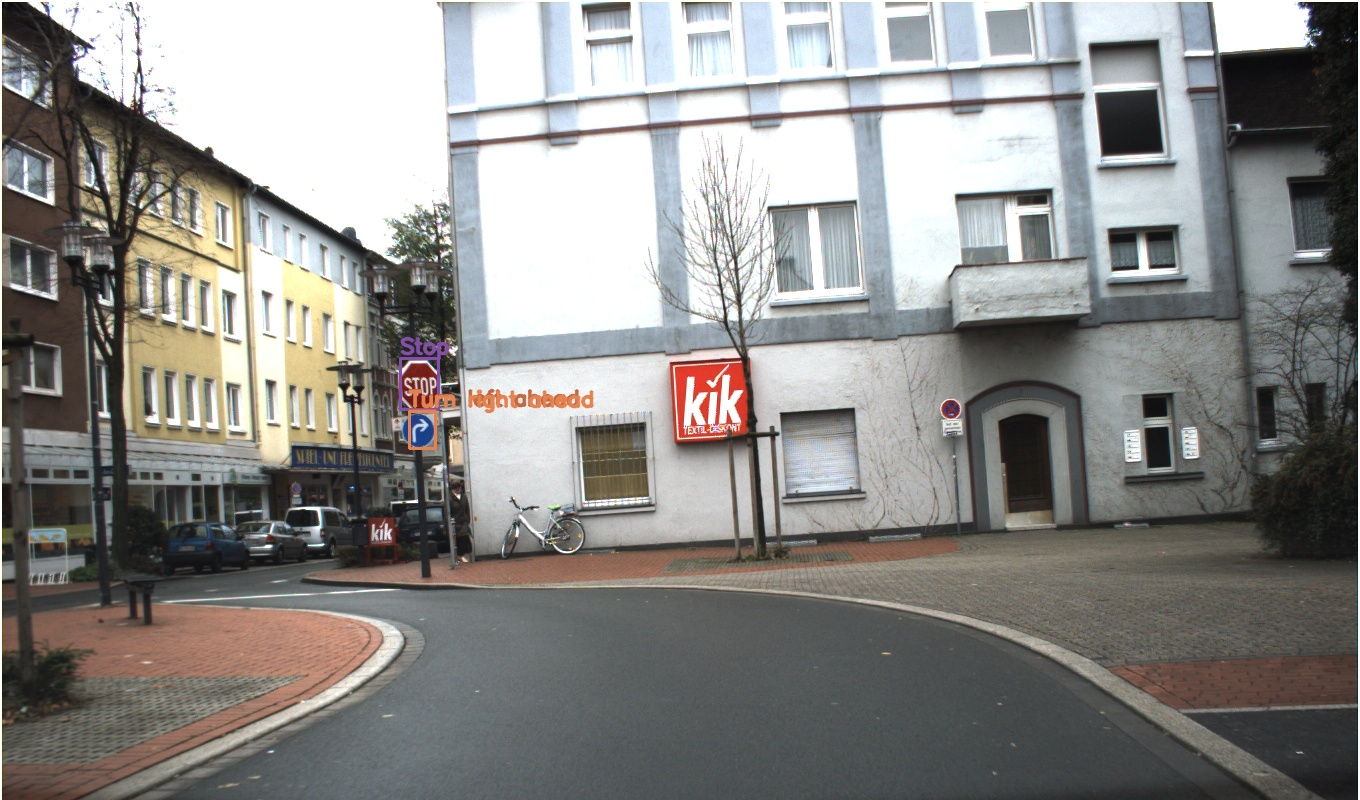Speed limit (50km/h): (1212, 419, 1244, 452)
